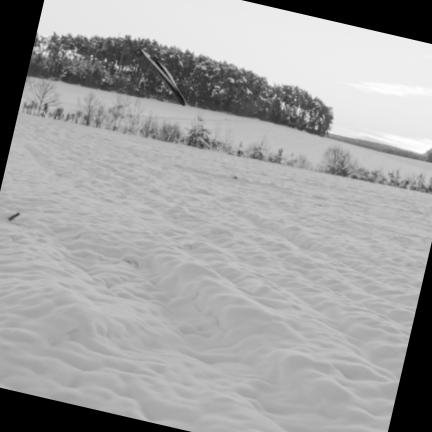Shahed: (138, 49, 185, 106)
